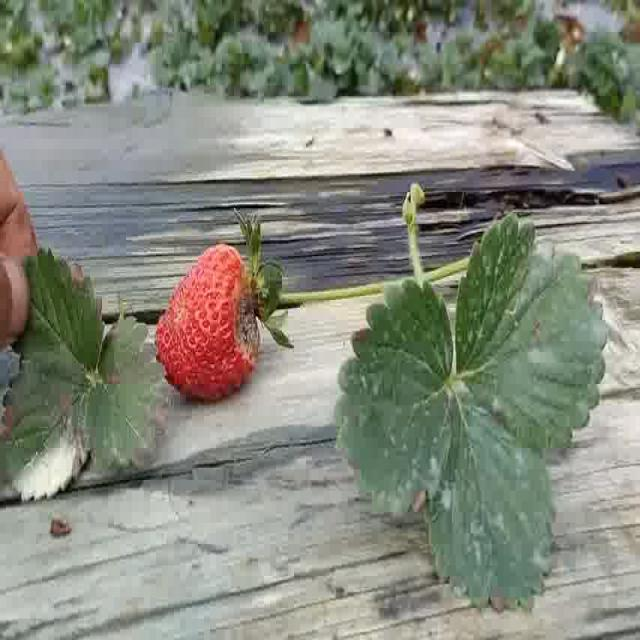Mancha negra Antracnosis: (148, 243, 260, 404)
